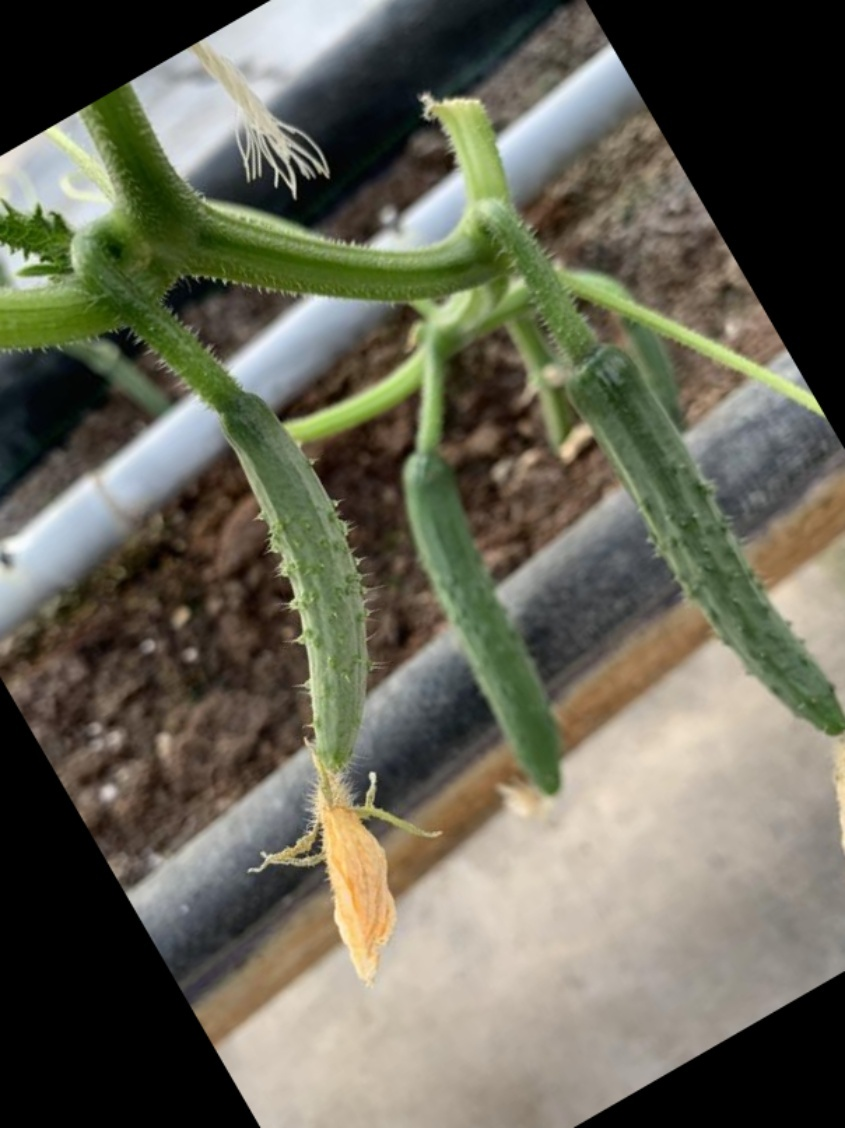bear: (214, 420, 444, 997)
